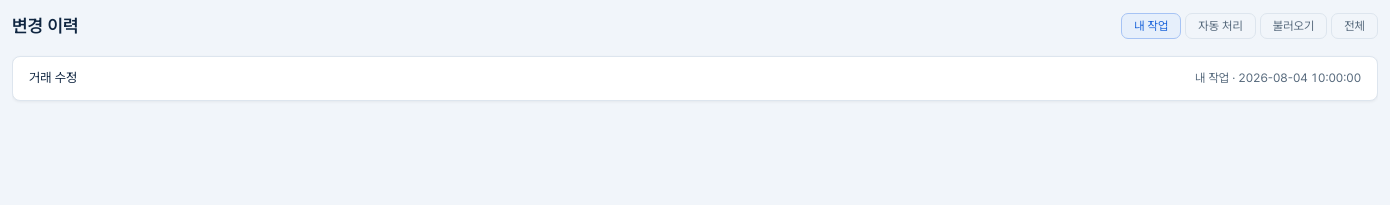
Scenario: C. 변경 내용 펼치기 › C-2. category_id 는 숫자가 아니라 이름으로 보인다
Click the button "거래 수정 내 작업 · 2026-08-04 10:00:00".
click(53, 78)  # box [29,69,1361,88]
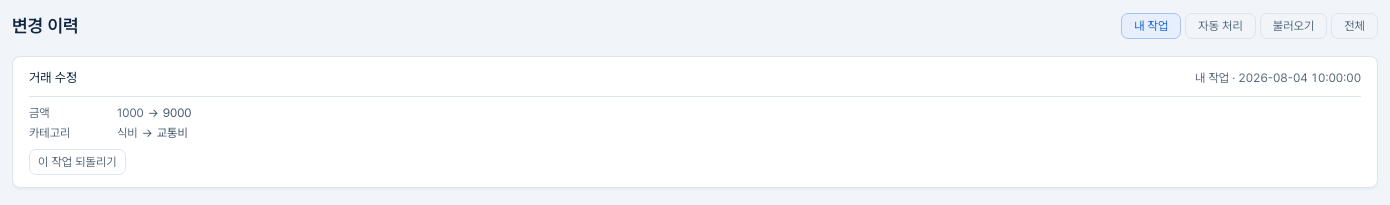
Expected: the text "식비" is shown, [117,126,138,140]
Expected: the text "교통비" is shown, [157,126,188,140]
